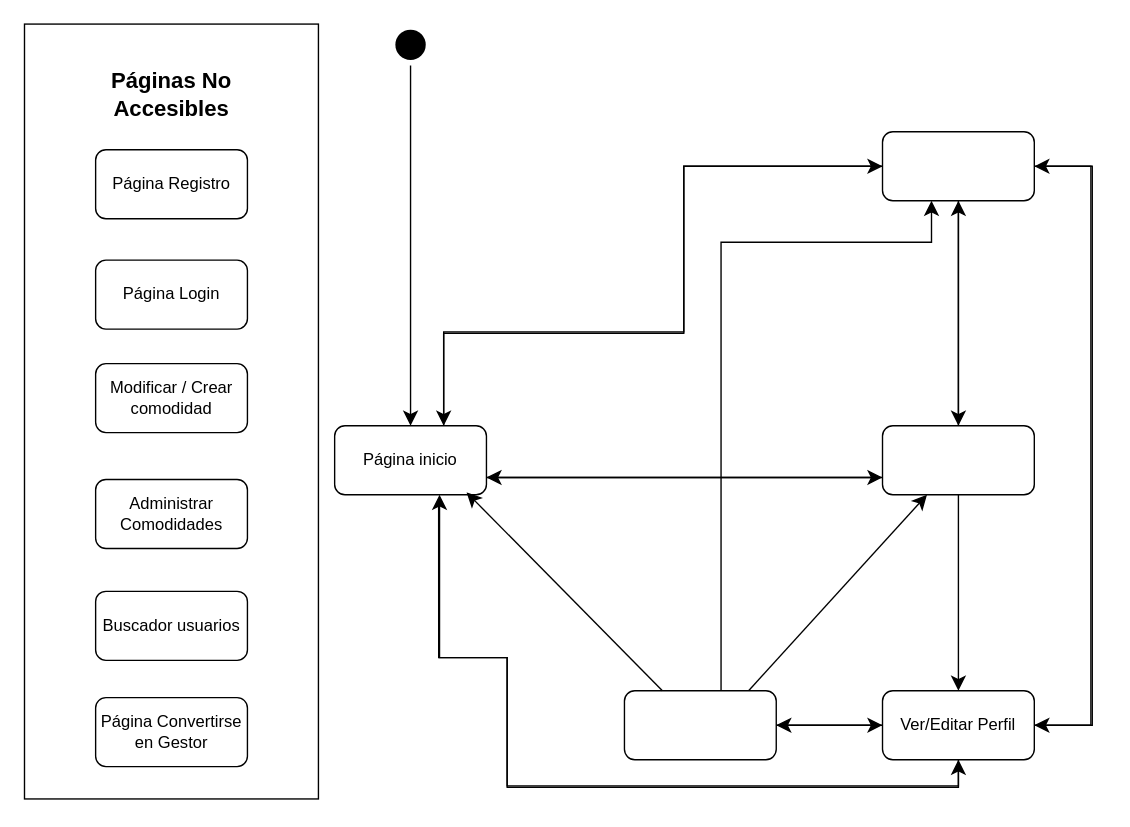
Image size: 1130x827. Some labels were removed from this diagram. The shapes that lost their labels are listed below. From the top down, each one's box as (x1, y1, x2, y2) in pixels, then its label:
(881, 130, 1034, 201): Ver reservas
(881, 424, 1034, 495): Ver / Editar Detalles Casa Rural
(623, 689, 776, 760): Ver Casas propias en Alquiler / Ver Casas Rurales de otro usuario
